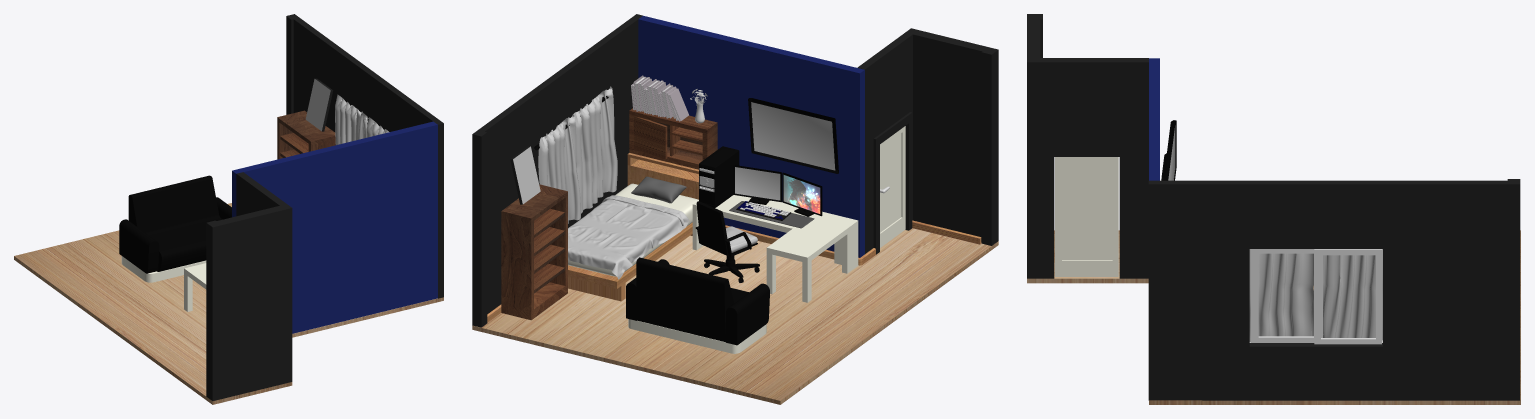
Rendered from Dream Room.fbx.
3 views of the same model, side by side, from view 1: azimuth 30°, elevation 25°; view 2: azimuth 150°, elevation 25°; view 3: azimuth 270°, elevation 25° (orthographic). The views are drawn at different scales.
Visible parts, largest first — view 1: Tembok 2, Tembok 3, Lantai, Tembok 1, Sofa, Lemari, Gorden 2, Poster, Meja, Bwhan Sofa; view 2: Lantai, Tembok 3, Tembok 2, Tembok 1, Sofa, Lemari, Selimut, Meja, Tv, Gorden 1, Lemari Kecil, Kasur (+13 smaller); view 3: Tembok 1, Tembok 3, Pintu, Gorden 1, Gorden 2, Lantai, Jendela 1, Jendela 2, Tembok 2, Tv.
Part boxes in pixels (left/top/right/bottom): Tembok 2: left=232, top=121, right=437, bottom=333; Tembok 3: left=206, top=172, right=292, bottom=400; Lantai: left=14, top=203, right=443, bottom=404; Tembok 1: left=286, top=14, right=443, bottom=298; Sofa: left=119, top=175, right=231, bottom=273; Lemari: left=277, top=110, right=335, bottom=159; Gorden 2: left=335, top=94, right=368, bottom=144; Poster: left=305, top=78, right=333, bottom=131; Meja: left=184, top=263, right=206, bottom=311; Bwhan Sofa: left=121, top=256, right=206, bottom=282; Lantai: left=472, top=228, right=998, bottom=404; Tembok 3: left=857, top=28, right=998, bottom=254; Tembok 2: left=638, top=15, right=864, bottom=257; Tembok 1: left=472, top=14, right=642, bottom=327; Sofa: left=626, top=257, right=769, bottom=345; Lemari: left=501, top=184, right=567, bottom=320; Selimut: left=568, top=195, right=689, bottom=279; Meja: left=692, top=195, right=858, bottom=302; Tv: left=748, top=98, right=838, bottom=173; Gorden 1: left=573, top=86, right=617, bottom=213; Lemari Kecil: left=629, top=108, right=717, bottom=169; Kasur: left=568, top=153, right=698, bottom=301; Tembok 1: left=1148, top=179, right=1520, bottom=400; Tembok 3: left=1027, top=14, right=1148, bottom=278; Pintu: left=1055, top=157, right=1118, bottom=276; Gorden 1: left=1249, top=249, right=1313, bottom=341; Gorden 2: left=1311, top=249, right=1382, bottom=340; Lantai: left=1027, top=230, right=1520, bottom=404; Jendela 1: left=1314, top=249, right=1381, bottom=344; Jendela 2: left=1250, top=249, right=1322, bottom=342; Tembok 2: left=1149, top=58, right=1159, bottom=180; Tv: left=1161, top=120, right=1176, bottom=180.
Size of the model in its own units: 3894 by 2359 by 4776.
